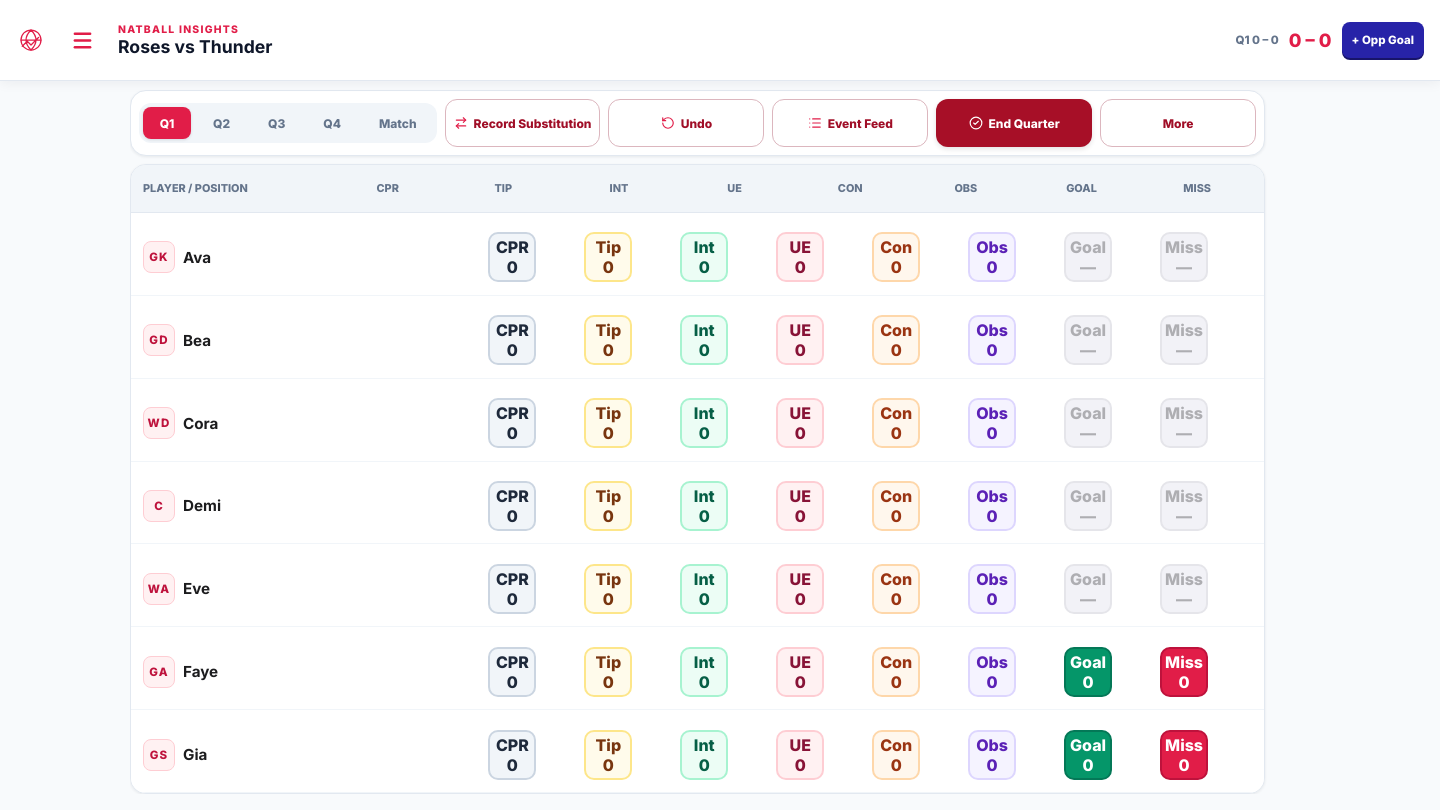
Natball Insights setup › explains why Season lifecycle controls are unavailable during a live Match
What coordinates should you click on to do the following:
click the button named "Open coach navigation"
I would click on:
 (82, 40)
Its box is [58,16,106,64].
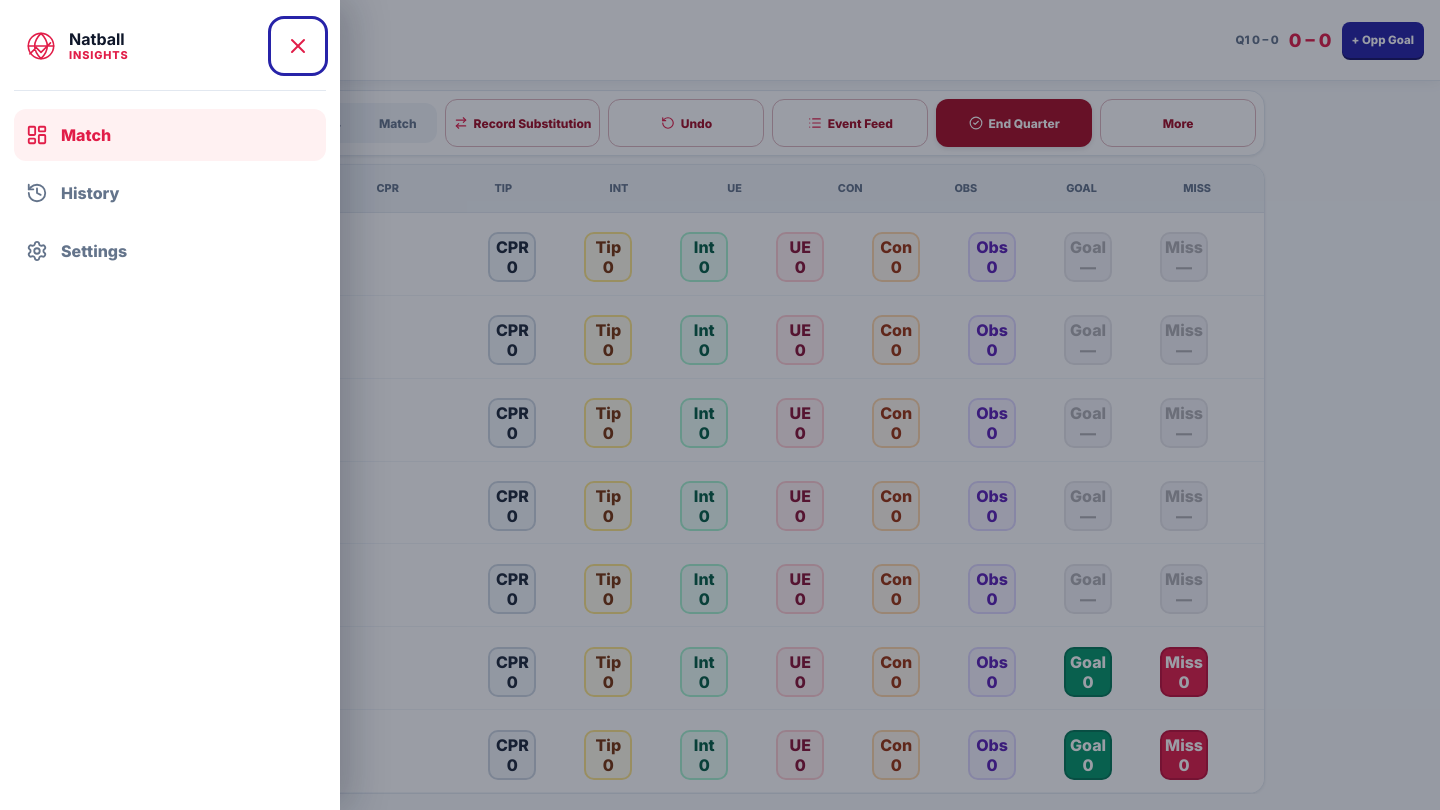
What coordinates should you click on to do the following:
click the button "Settings"
I would click on:
 (94, 251)
Its box is [14,225,326,277].
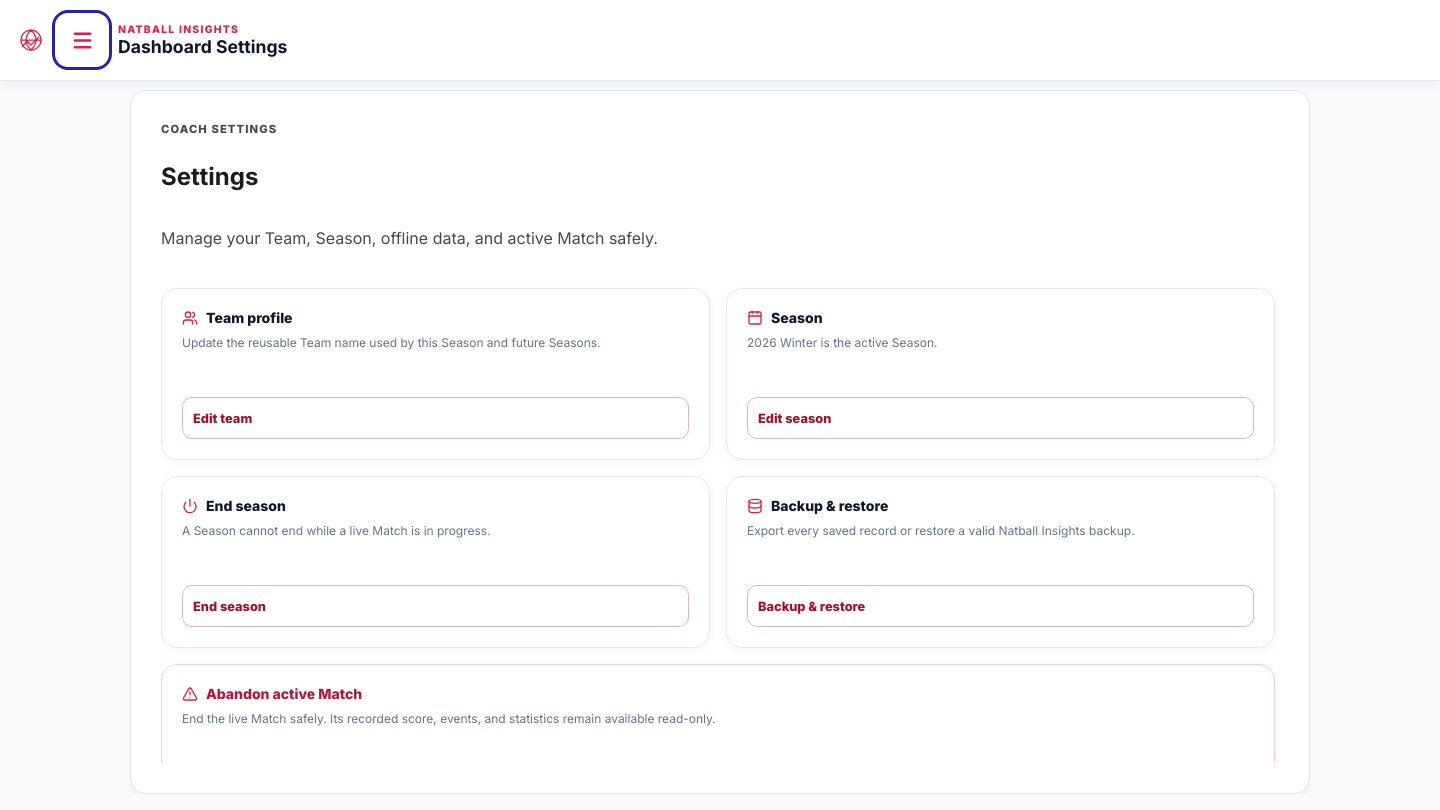
Expected: the button "End season" is disabled, [182,585,689,627]
Expected: the text "A Season cannot end while a live Match is in progress." is shown, [182,523,491,538]
